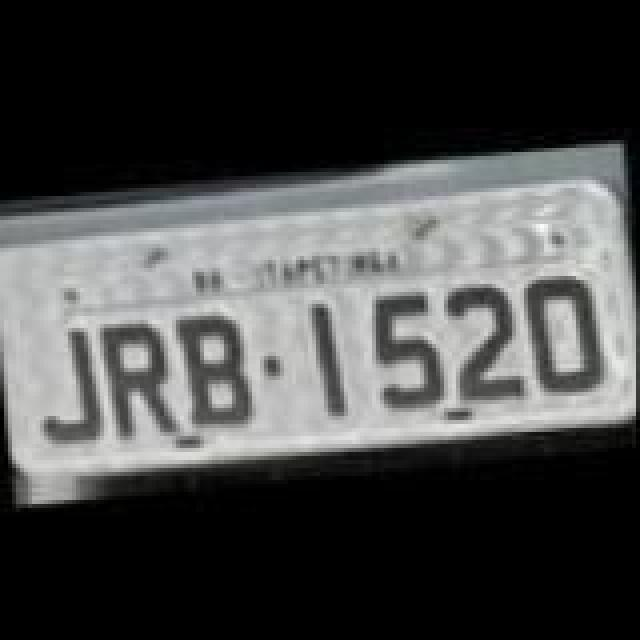1: (286, 282, 350, 426)
2: (432, 270, 524, 394)
5: (362, 284, 442, 404)
B: (176, 300, 268, 436)
J: (22, 310, 106, 450)
O: (514, 262, 602, 394)
R: (100, 304, 180, 456)
